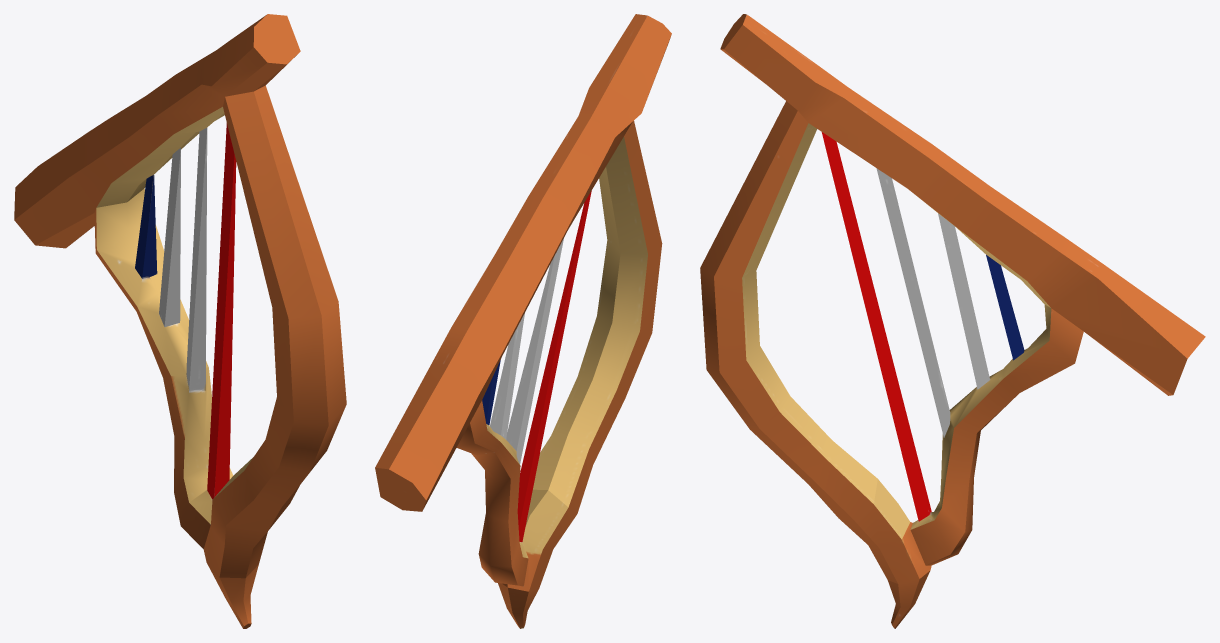
The model's file is Arpa3_000007.obj.
The picture shows the model from 3 angles, left to right: view 1: azimuth 30°, elevation 25°; view 2: azimuth 150°, elevation 25°; view 3: azimuth 270°, elevation 25°; orthographic projection. The views are drawn at different scales.
Visible parts, largest first — view 1: a3_Arpa_1:pCube6; view 2: a3_Arpa_1:pCube6; view 3: a3_Arpa_1:pCube6.
Boxes of the visible parts, <box> form: a3_Arpa_1:pCube6: <box>14,14,346,628</box>; a3_Arpa_1:pCube6: <box>375,14,671,628</box>; a3_Arpa_1:pCube6: <box>700,14,1205,628</box>.
Size of the model in its own units: 1.56 by 9.43 by 7.36.
